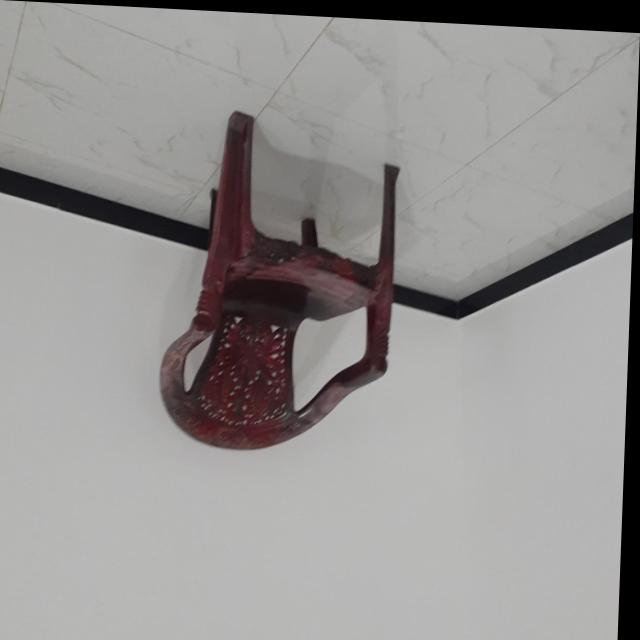Chair: (160, 105, 401, 452)
